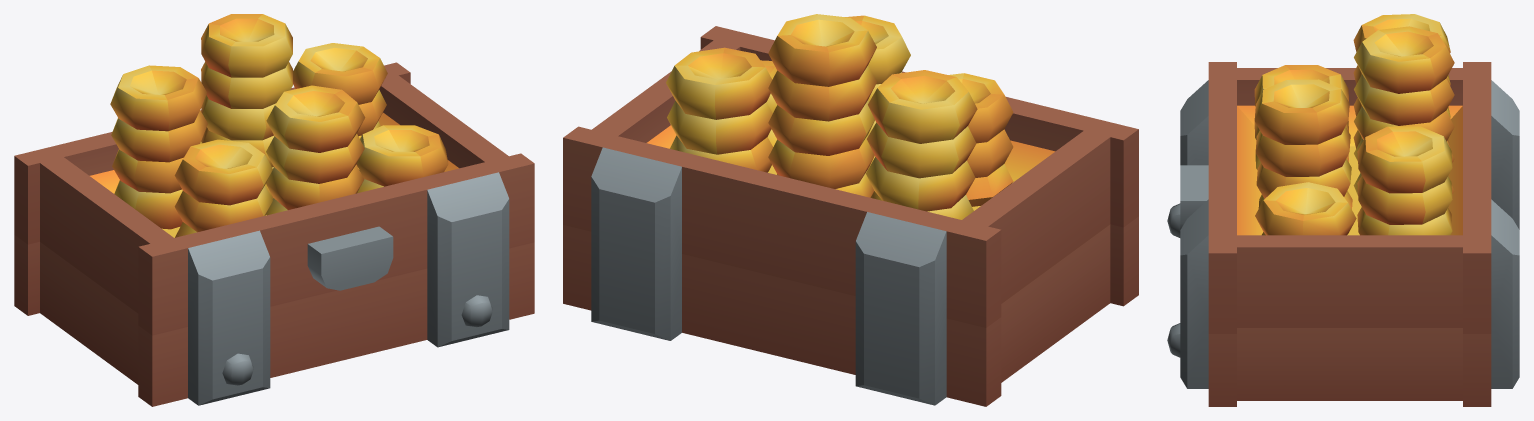
Rendered from chest_gold.gltf.
3 views of the same model, side by side, from view 1: azimuth 30°, elevation 25°; view 2: azimuth 150°, elevation 25°; view 3: azimuth 270°, elevation 25° (orthographic). The views are drawn at different scales.
Visible parts, largest first — view 1: chest_gold; view 2: chest_gold; view 3: chest_gold.
Boxes of the visible parts, box(x1,y1,x2,y2) form: chest_gold: box(14, 14, 534, 406); chest_gold: box(563, 14, 1138, 406); chest_gold: box(1167, 14, 1519, 406).
Bounding box in the file's own units: 1.6 × 1.04 × 1.25.
1 material, 1 textured.
